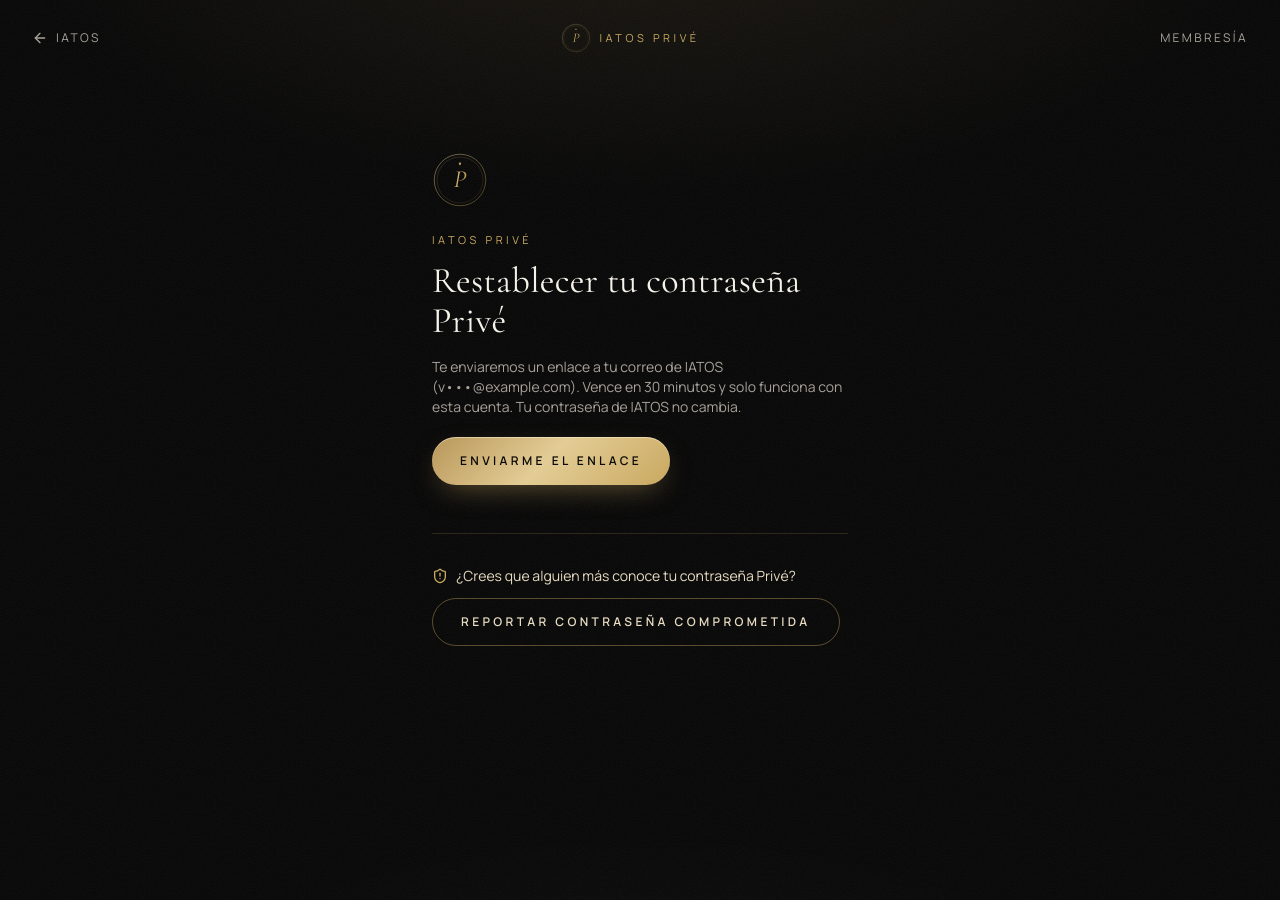
Test case: /prive/restablecer › sin token: pide el enlace por correo
This screenshot has width=1280, height=900.
Click the button "Enviarme el enlace".
click(551, 460)  # box x1=432 y1=436 x2=670 y2=484
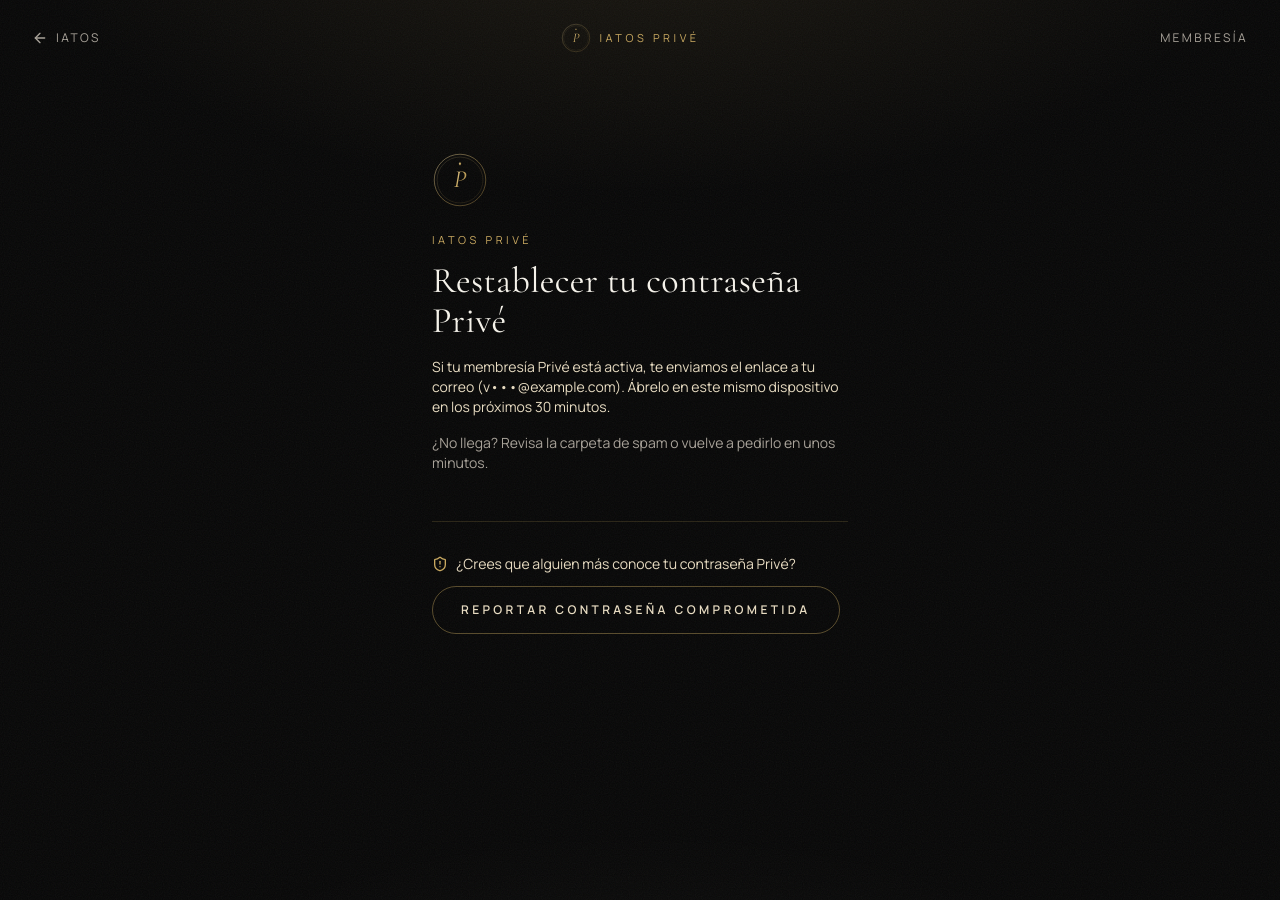
Now the text "te enviamos el enlace a tu correo" is shown, box x1=432 y1=356 x2=838 y2=416
